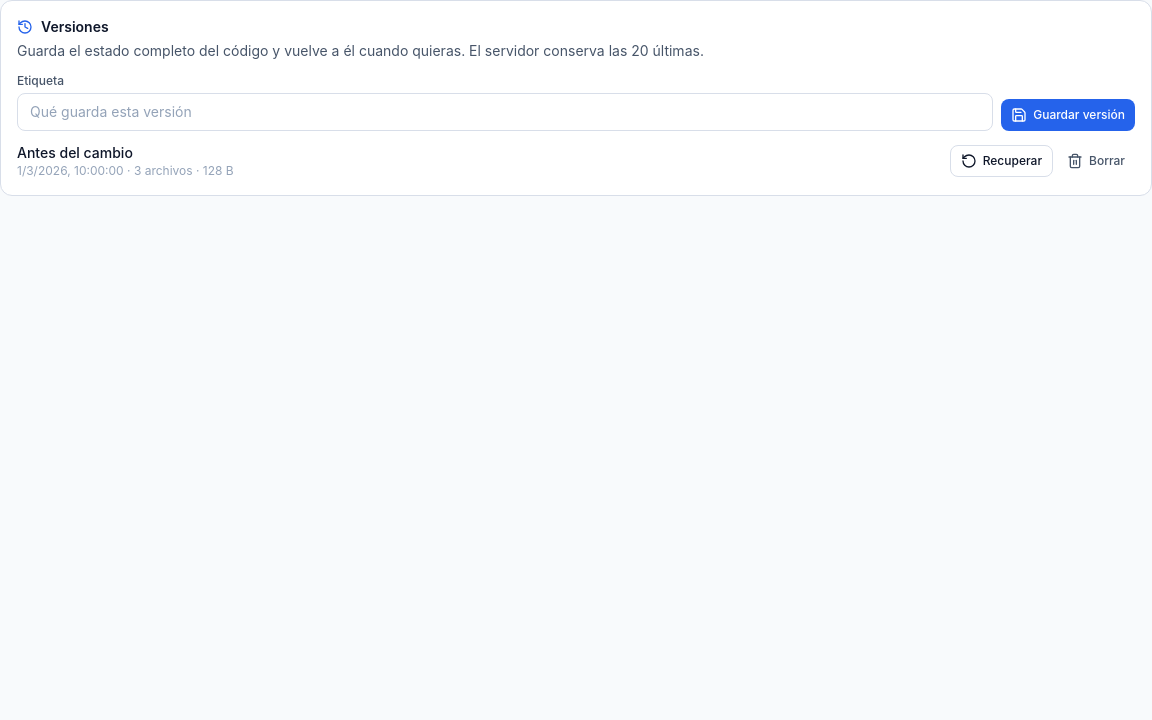
it: ProjectVersions › recuperar pide confirmación antes de tocar los archivos
Expected: the text "Antes del cambio" is shown, [17, 144, 133, 161]
Click the button with aria-label "Recuperar «Antes del cambio»": (1001, 161) [950, 145, 1053, 177]
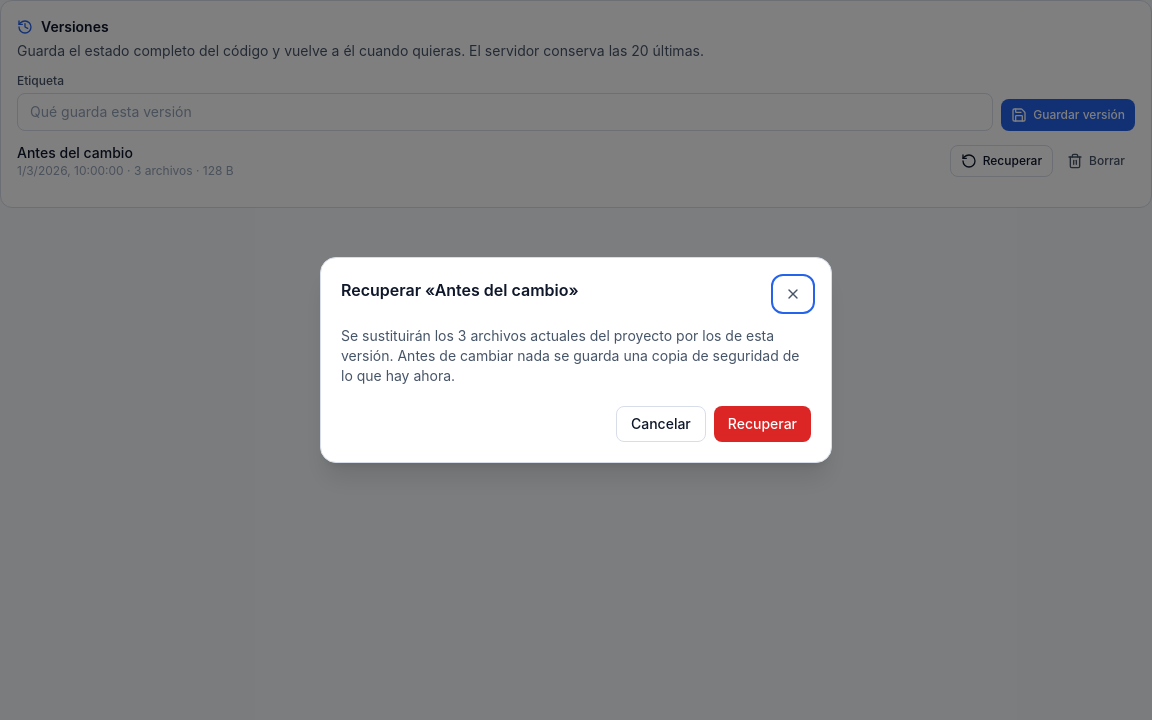
Click the button "Recuperar": (762, 424) [714, 406, 811, 442]
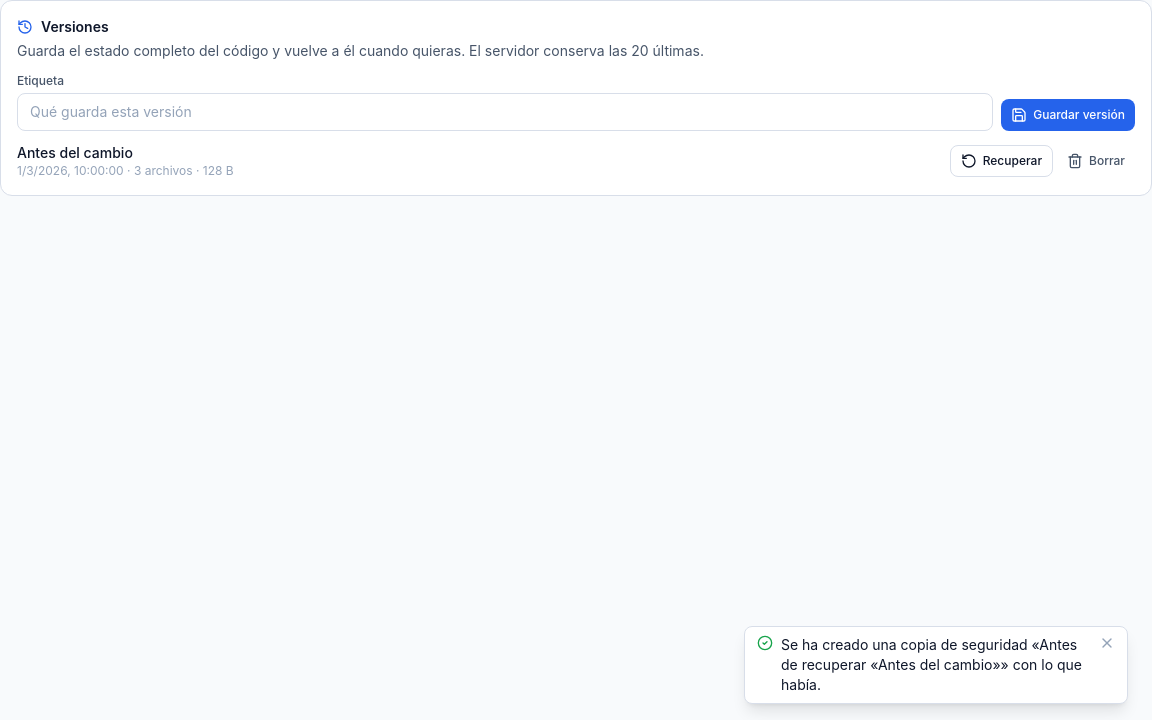
Expected: the text "Se ha creado una copia de seguridad" is shown, [781, 636, 1082, 693]
